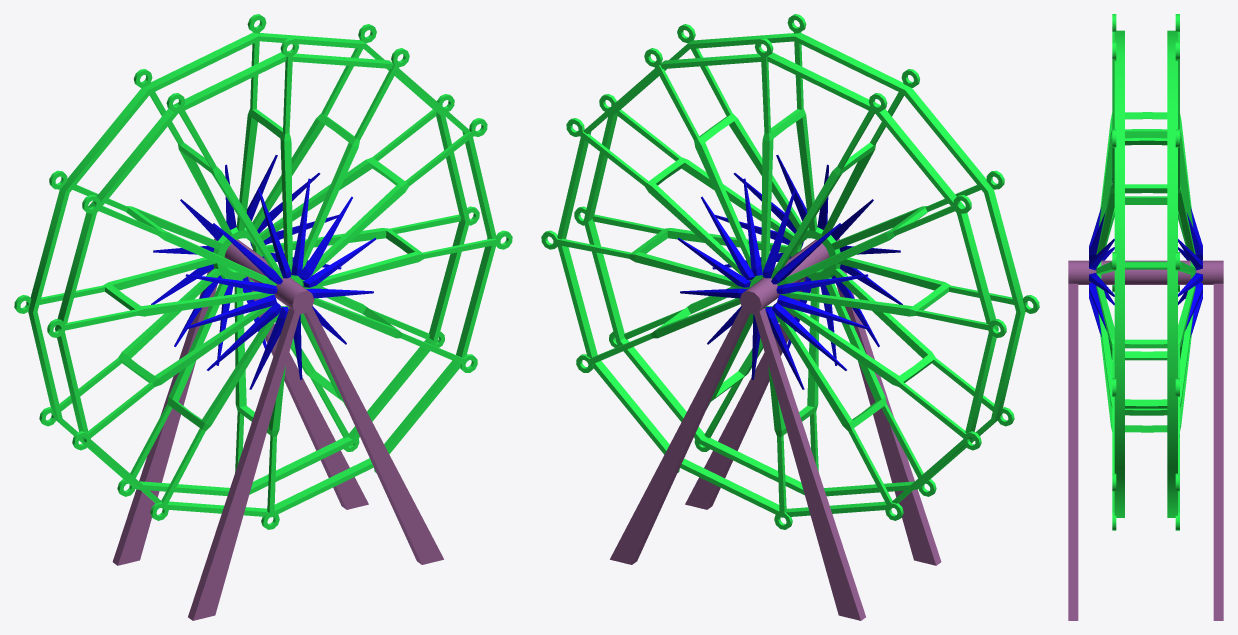
The model's file is SM_FerrisWheel.FBX.
3 renders of one model, left to right at view 1: azimuth 30°, elevation 25°; view 2: azimuth 150°, elevation 25°; view 3: azimuth 270°, elevation 25°, orthographic. The views are drawn at different scales.
Visible parts, largest first — view 1: FerrisWheel_low, AFrame_low, Star_low; view 2: FerrisWheel_low, AFrame_low, Star_low; view 3: FerrisWheel_low, AFrame_low, Star_low.
Part boxes in pixels (x1=…): FerrisWheel_low: x1=14, y1=14, x2=512, y2=529; AFrame_low: x1=112, y1=238, x2=443, y2=620; Star_low: x1=151, y1=155, x2=376, y2=389; FerrisWheel_low: x1=541, y1=14, x2=1039, y2=529; AFrame_low: x1=610, y1=238, x2=941, y2=620; Star_low: x1=677, y1=155, x2=902, y2=389; FerrisWheel_low: x1=1096, y1=14, x2=1195, y2=530; AFrame_low: x1=1068, y1=260, x2=1223, y2=620; Star_low: x1=1089, y1=178, x2=1202, y2=348.
Size of the model in its own units: 809 by 893 by 243.
